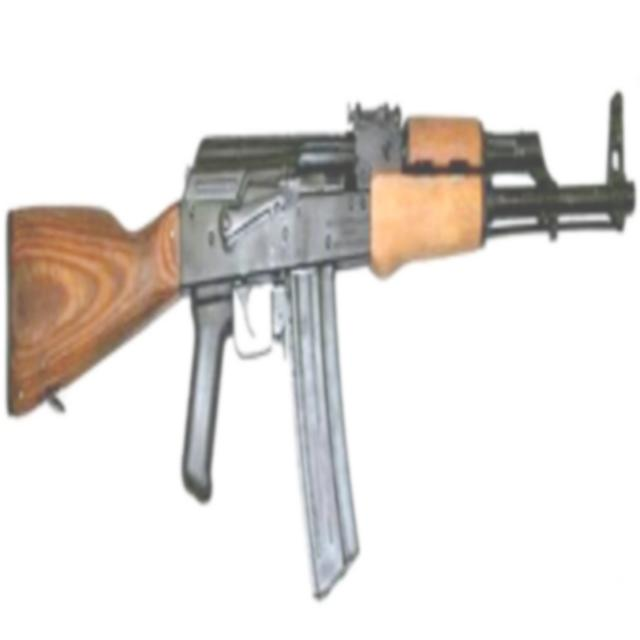ak: (1, 71, 638, 608)
